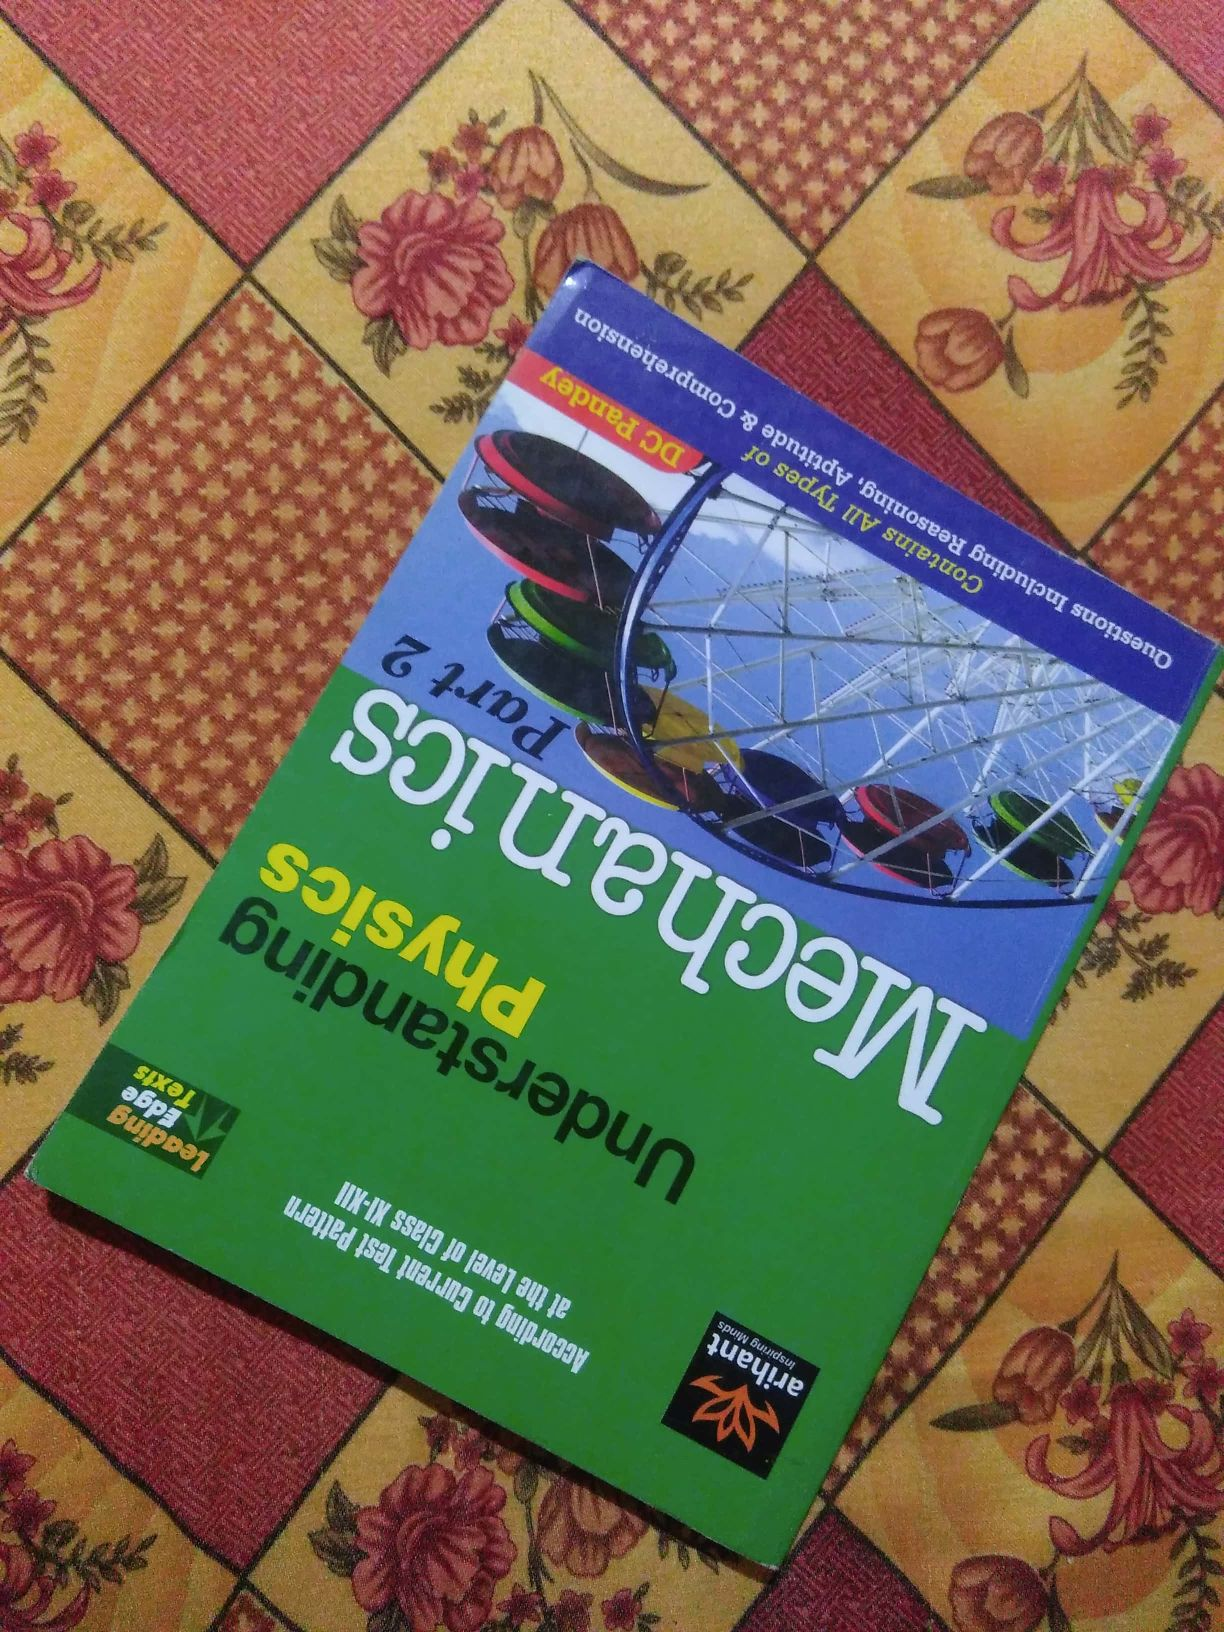mechanics: (126, 215, 1187, 1575)
